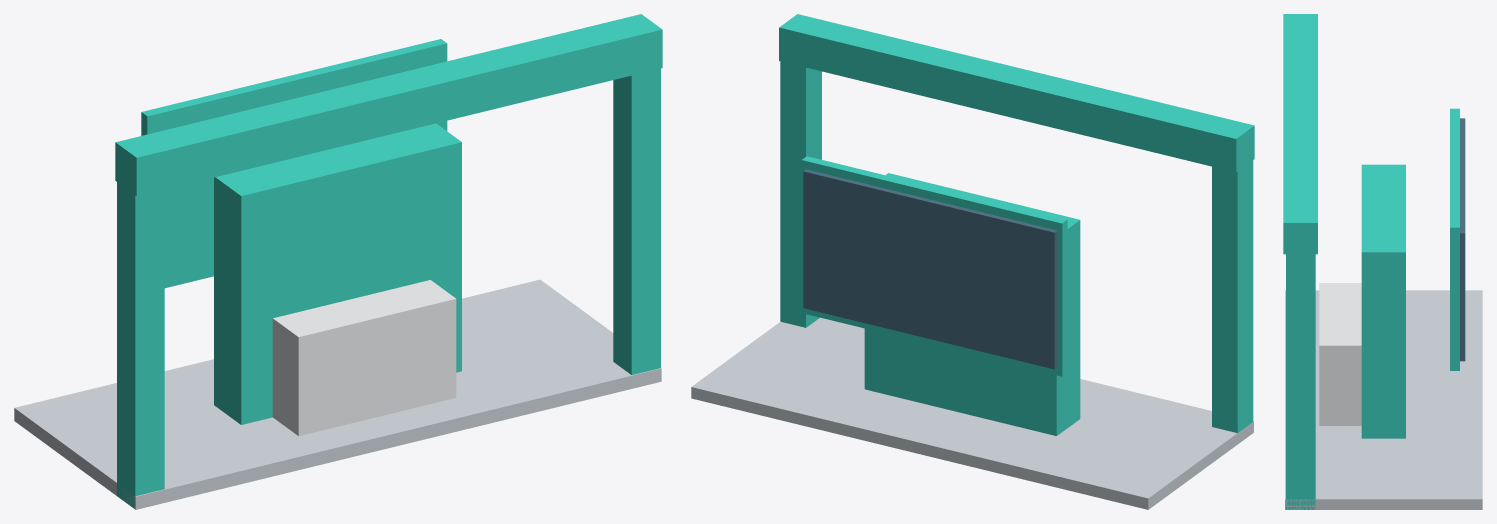
3 views of the same model, side by side, from view 1: azimuth 30°, elevation 25°; view 2: azimuth 150°, elevation 25°; view 3: azimuth 270°, elevation 25° (orthographic). The views are drawn at different scales.
Visible parts, largest first — view 1: Exhibition Booth Concept; view 2: Exhibition Booth Concept; view 3: Exhibition Booth Concept.
Boxes of the visible parts, bbox=[...] form: Exhibition Booth Concept: bbox=[14, 14, 662, 509]; Exhibition Booth Concept: bbox=[691, 14, 1254, 509]; Exhibition Booth Concept: bbox=[1283, 14, 1482, 509].
Bounding box in the file's own units: 5 × 3.2 × 2.01.
